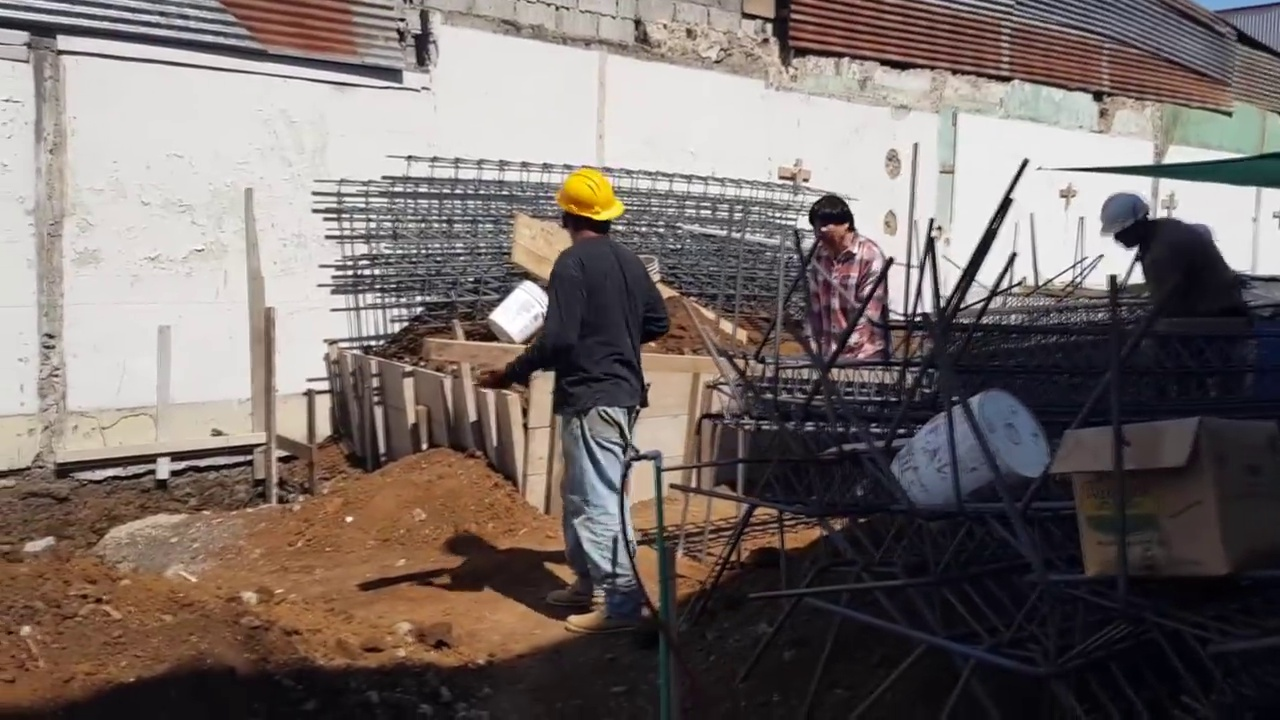helmet: (556, 165, 625, 224), (1101, 197, 1150, 236)
helmet-off: (808, 195, 859, 257)
helmet-on: (556, 168, 625, 247), (1100, 194, 1159, 249)
person: (492, 169, 669, 625), (1099, 192, 1240, 337), (792, 197, 895, 368)
